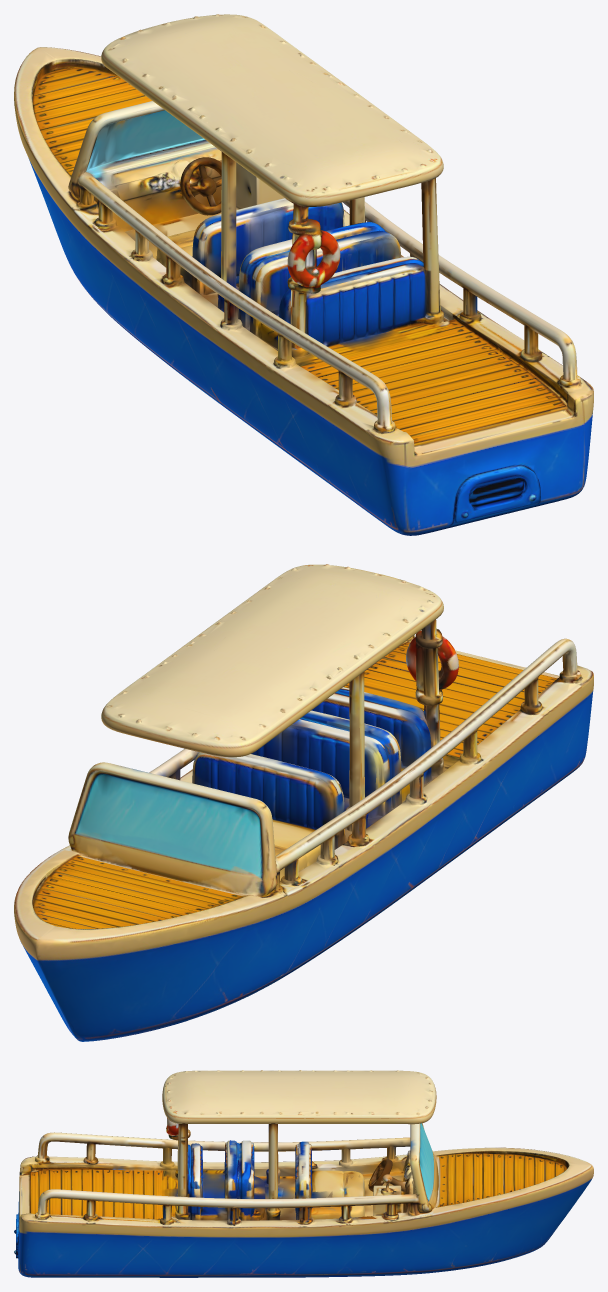
File: boat.glb
The picture shows the model from 3 angles, top to bottom: view 1: azimuth 30°, elevation 25°; view 2: azimuth 150°, elevation 25°; view 3: azimuth 270°, elevation 25°; orthographic projection. The views are drawn at different scales.
Visible parts, largest first — view 1: node_0; view 2: node_0; view 3: node_0.
Boxes of the visible parts, left/top/right/bottom form: node_0: left=14, top=14, right=593, bottom=535; node_0: left=14, top=564, right=593, bottom=1041; node_0: left=14, top=1070, right=593, bottom=1277.
Size of the model in its own units: 0.3092 by 0.3603 by 1.15.
1 material, 1 textured.
